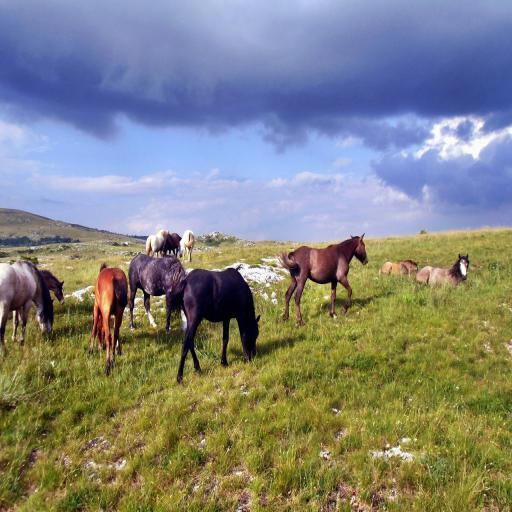horse: (171, 266, 261, 382), (277, 231, 367, 328), (0, 258, 50, 359), (88, 258, 130, 372), (128, 257, 186, 333), (29, 268, 68, 329), (414, 252, 470, 288), (377, 259, 419, 279), (146, 228, 169, 260), (180, 228, 196, 260), (167, 232, 179, 260)
